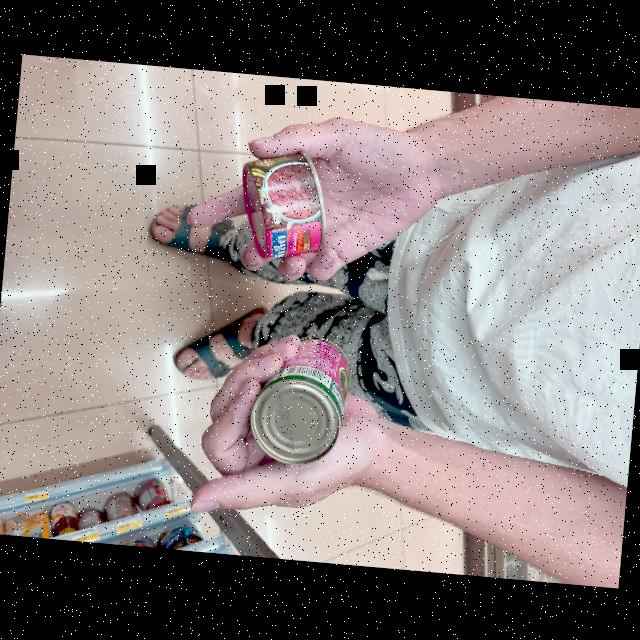can: (240, 324, 368, 474), (223, 135, 341, 275)
